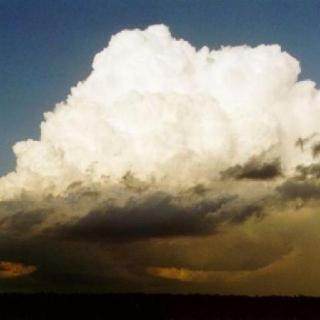Cumulonimbus: (0, 17, 320, 294)
